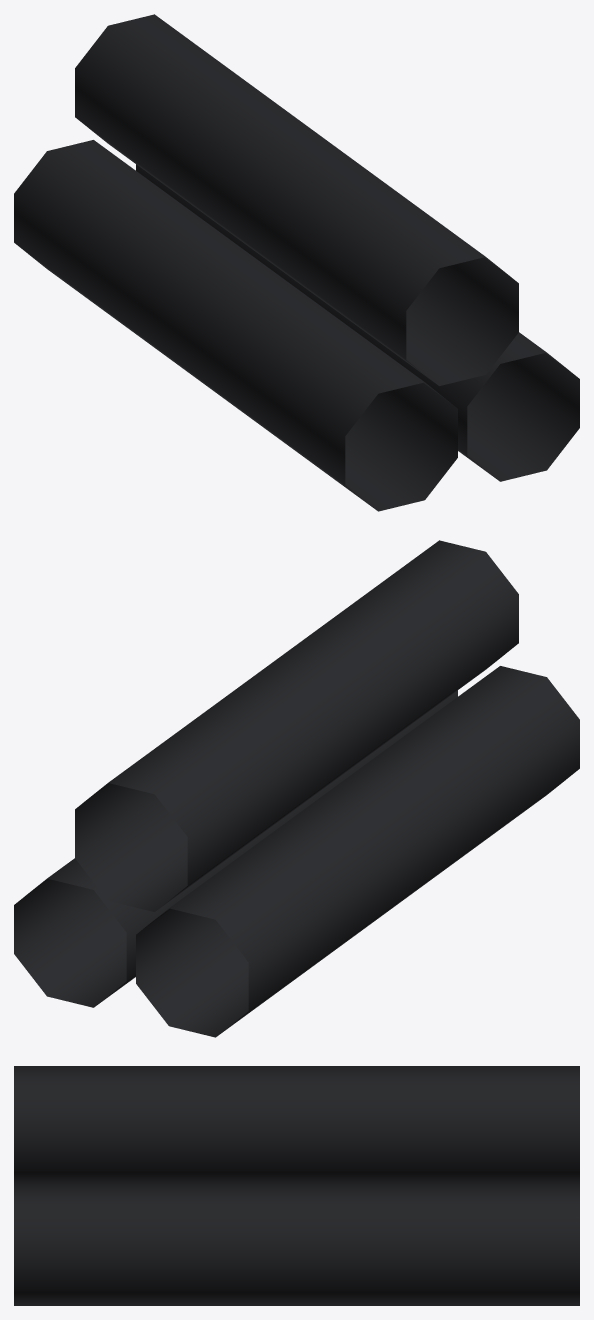
File: half_cable_south.obj
3 views of the same model, one above another, from view 1: azimuth 30°, elevation 25°; view 2: azimuth 150°, elevation 25°; view 3: azimuth 270°, elevation 25° (orthographic). The views are drawn at different scales.
Visible parts, largest first — view 1: half_cable_south; view 2: half_cable_south; view 3: half_cable_south.
Boxes of the visible parts, box(x1,y1,x2,y2) form: half_cable_south: box(14, 14, 579, 511); half_cable_south: box(14, 540, 579, 1037); half_cable_south: box(14, 1066, 579, 1305).
Size of the model in its own units: 0.2044 by 0.1902 by 0.5.
